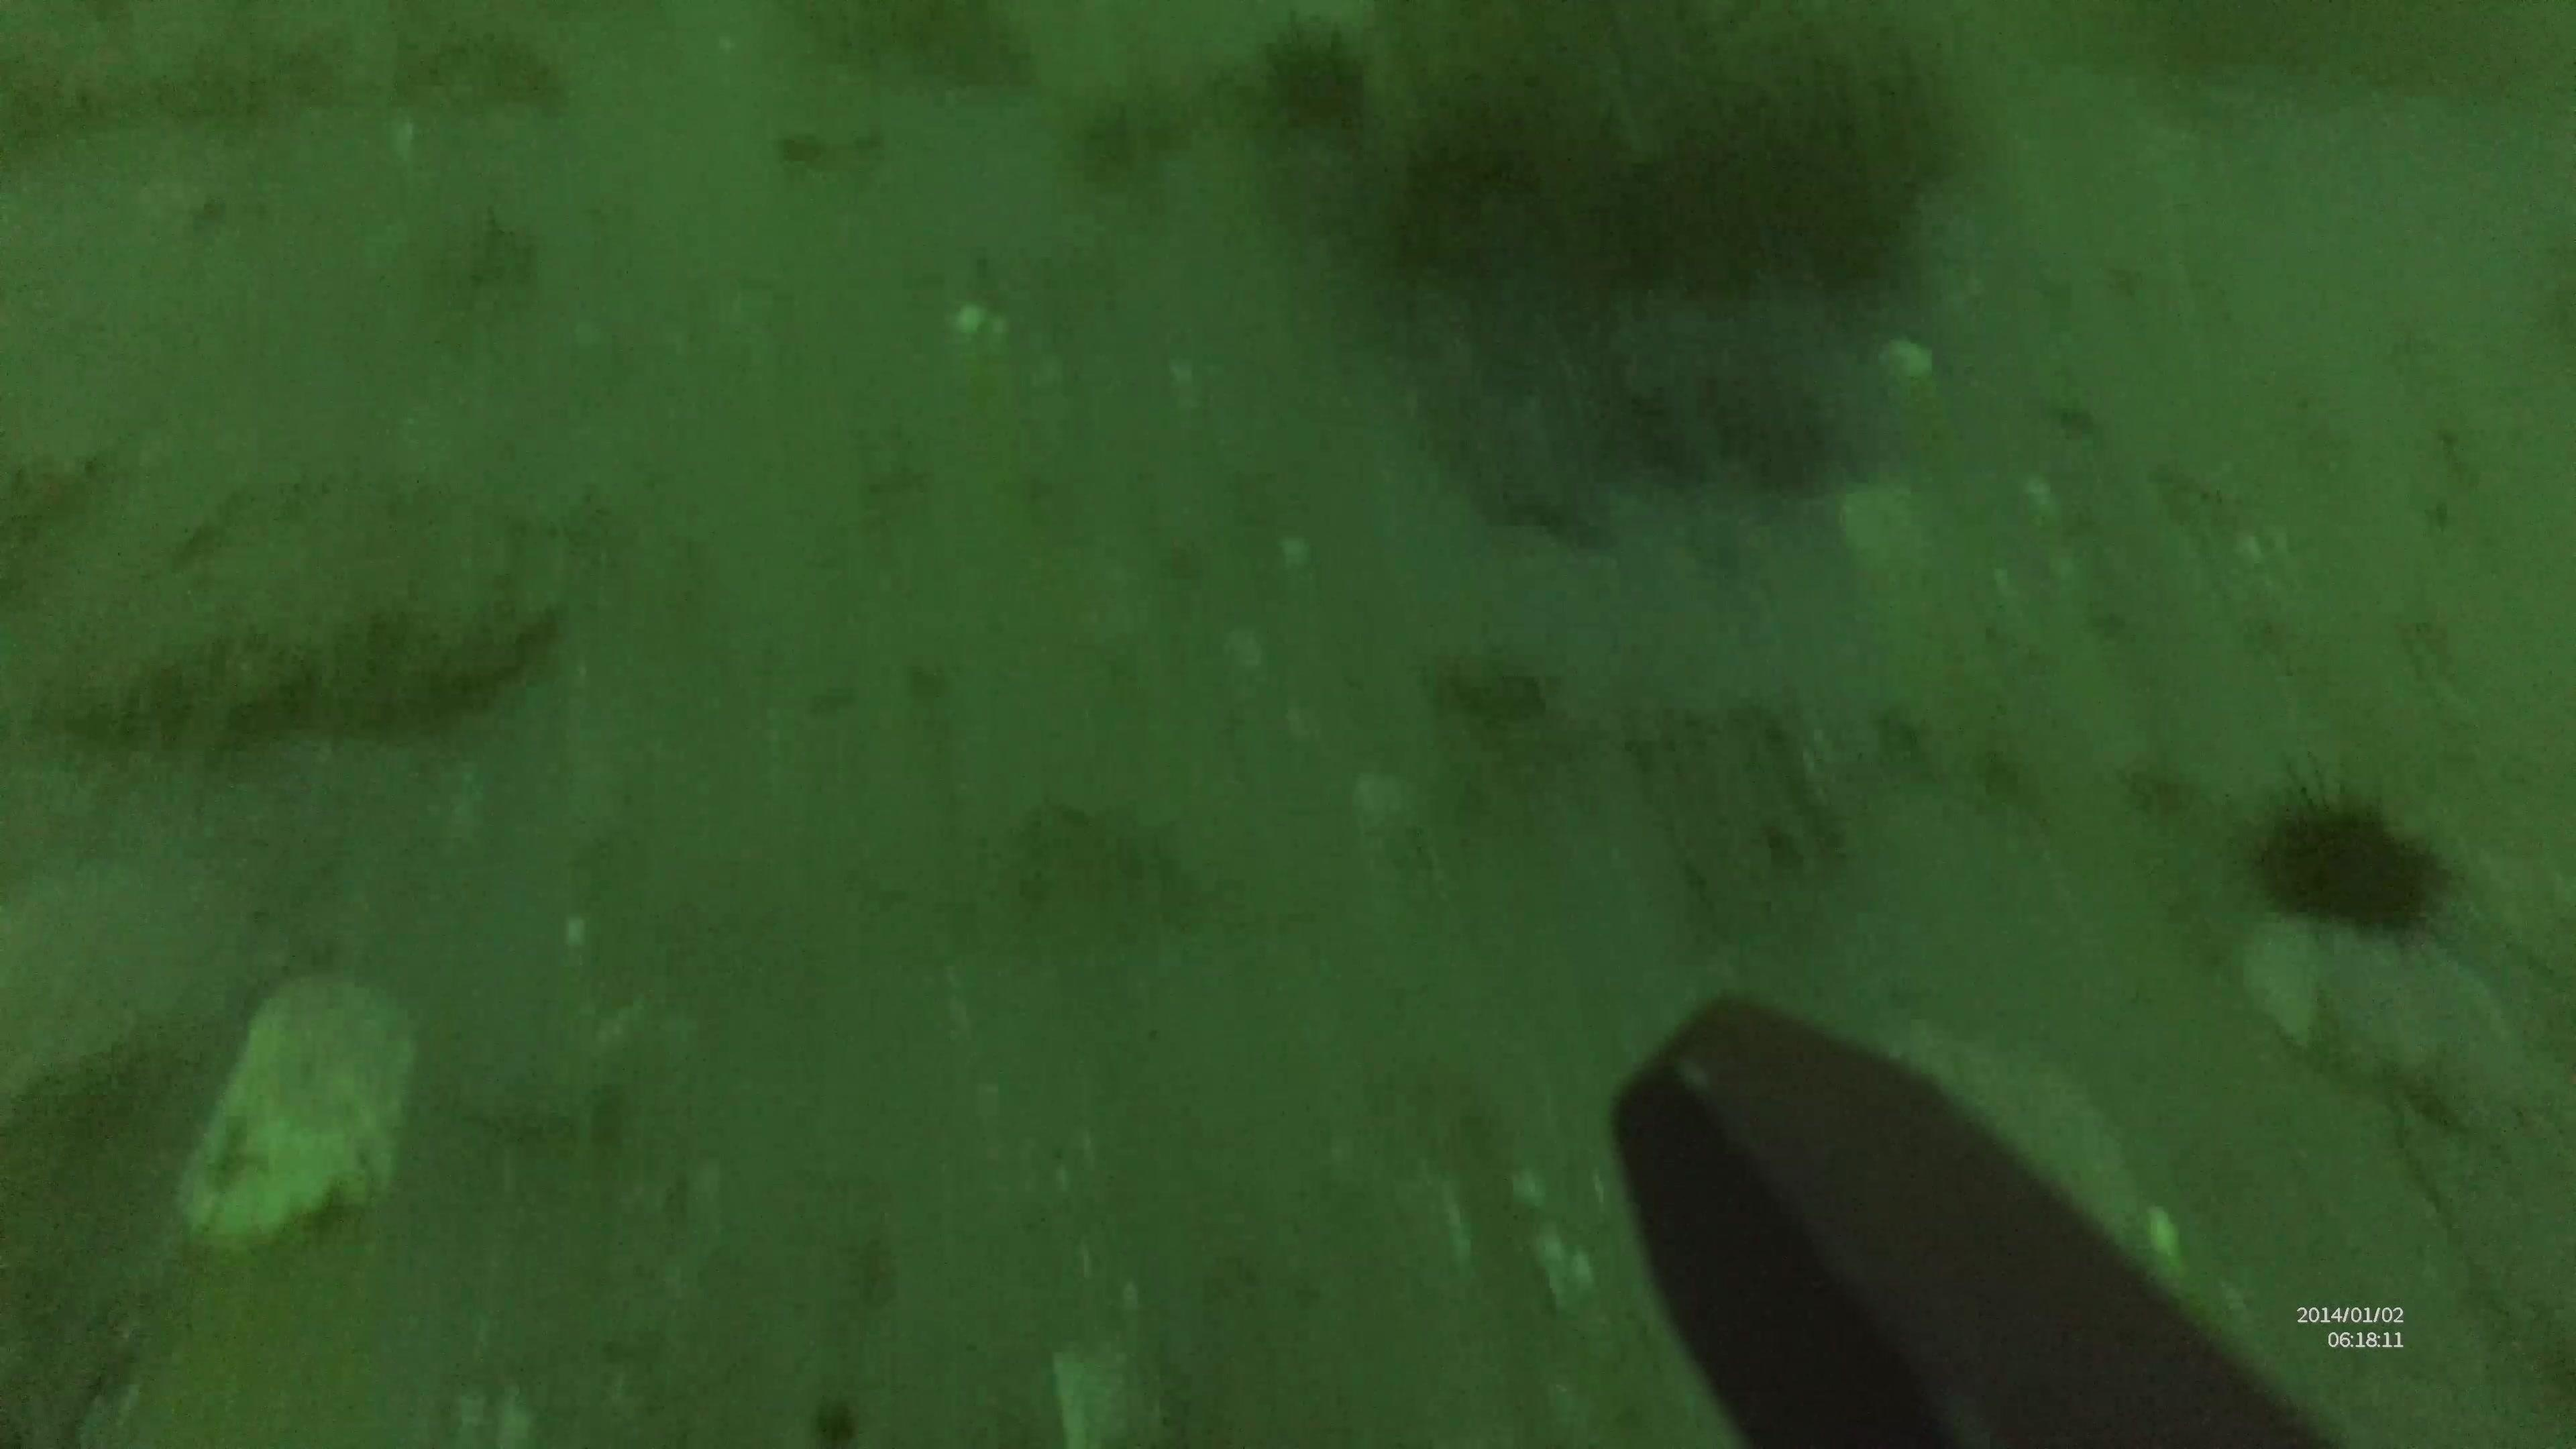echinus: (2245, 775, 2452, 943), (1246, 16, 1380, 145)
holothurian: (34, 547, 570, 763)
